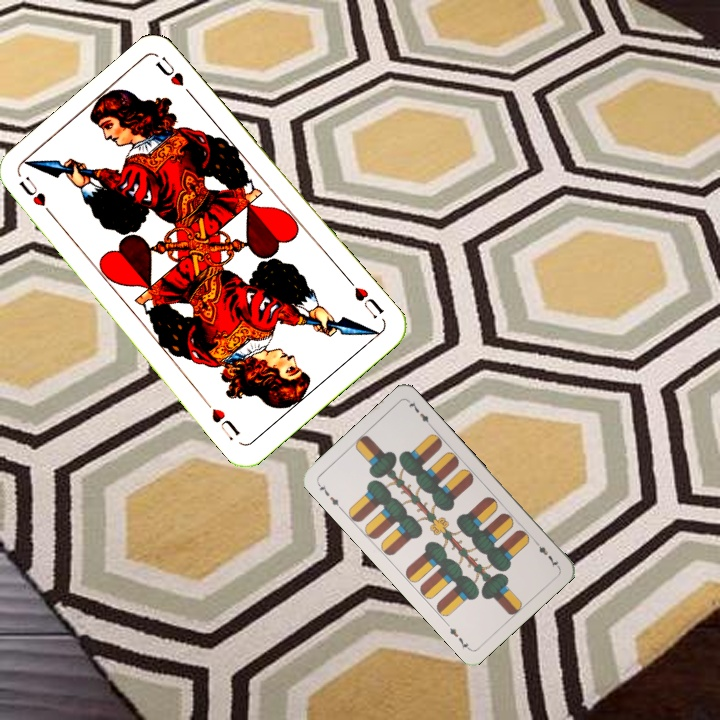E7: (530, 536, 562, 570), (314, 479, 345, 512)
HU: (14, 172, 59, 222), (343, 274, 387, 321)
